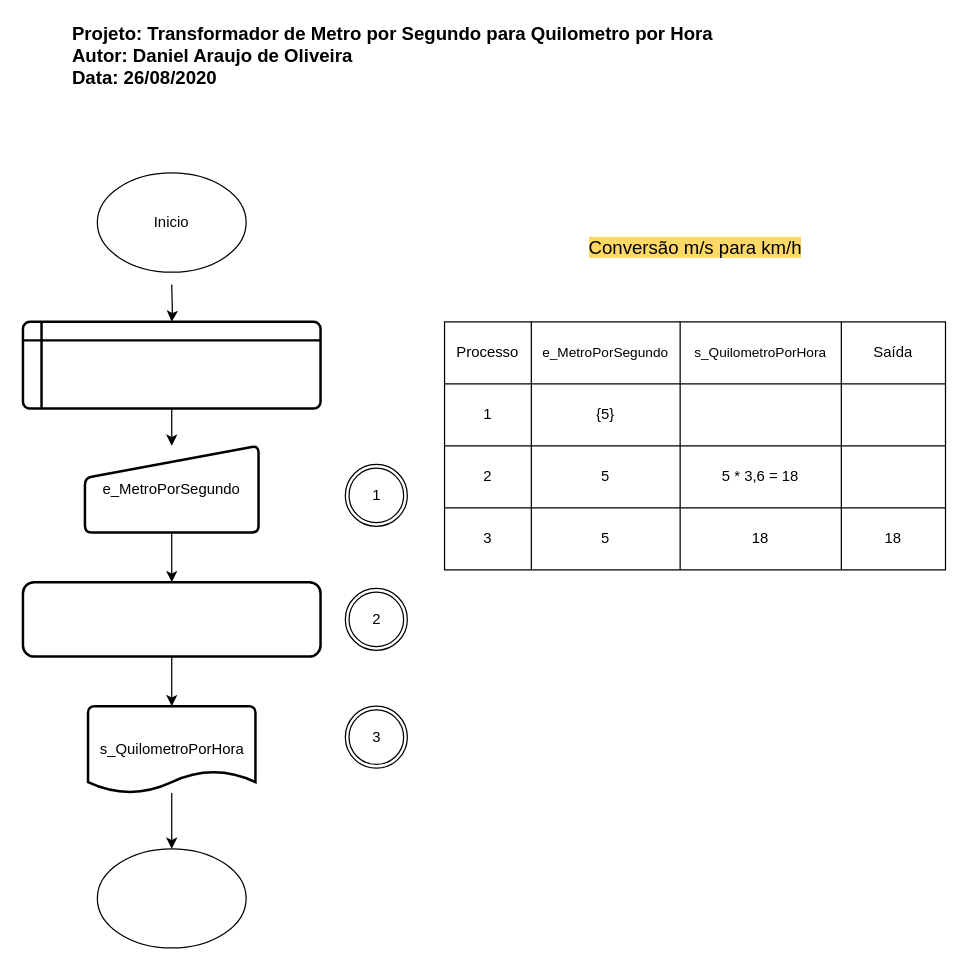
This 967x970 diagram has some shape labels left out. The shapes that lost their labels are listed below. From the top down, each one's centre as x and y in pixels, then its label:
(171,364): e_MetroPorSegundo, s_QuilometroPorHora
(171,618): s_QuilometroPorHora = e_MetroPorSegundo * 3,6
(171,898): Fim
